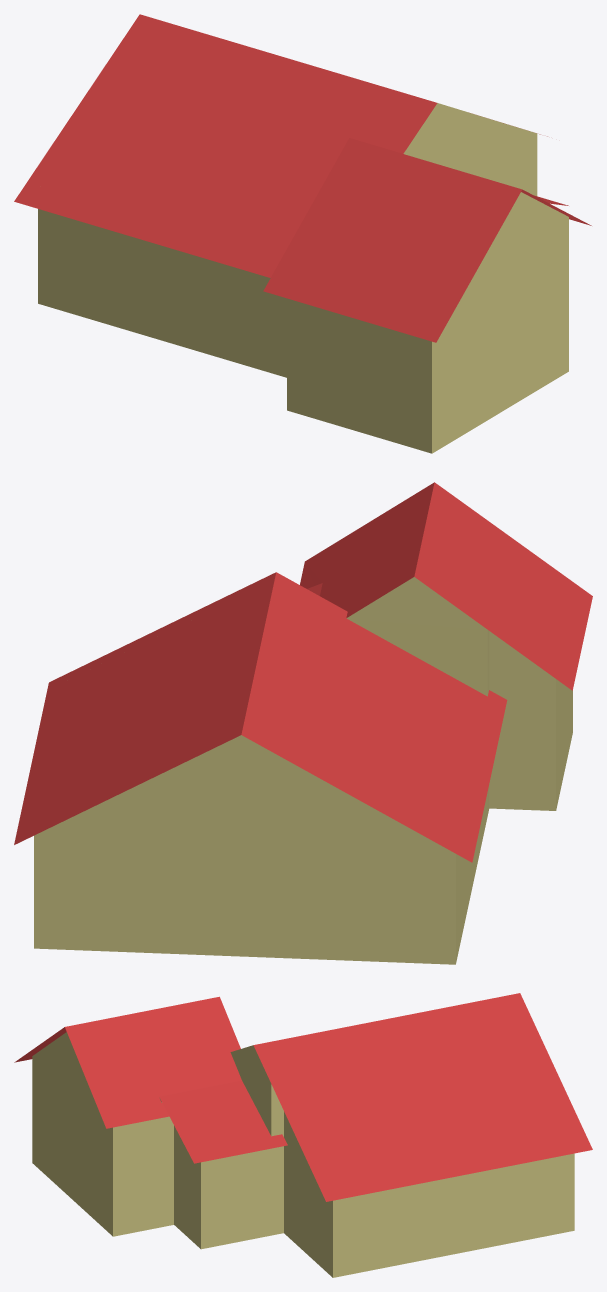
The picture shows the model from 3 angles, top to bottom: view 1: azimuth 30°, elevation 25°; view 2: azimuth 150°, elevation 25°; view 3: azimuth 270°, elevation 25°; orthographic projection. The views are drawn at different scales.
Size of the model in its own units: 31.77 by 41.75 by 14.29.
